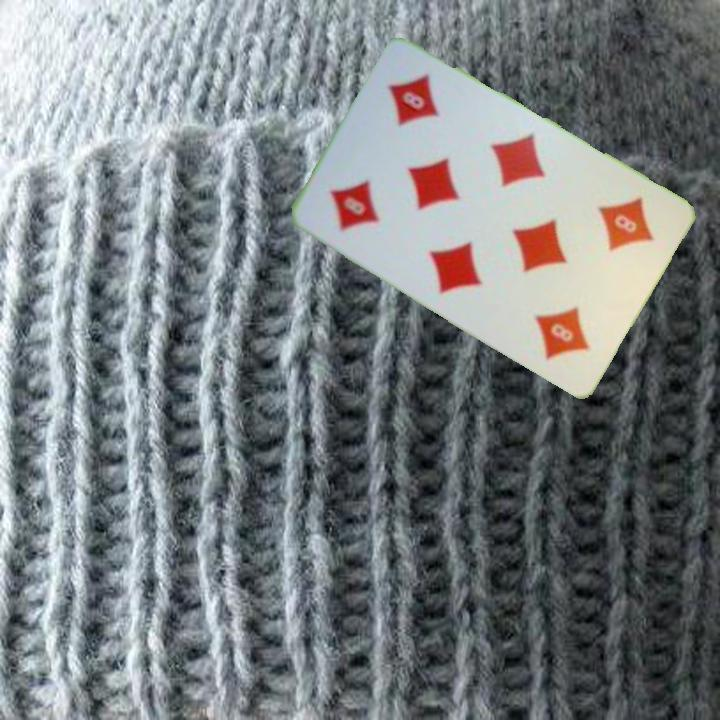d_8.png: (304, 132, 427, 260), (555, 171, 678, 299)
